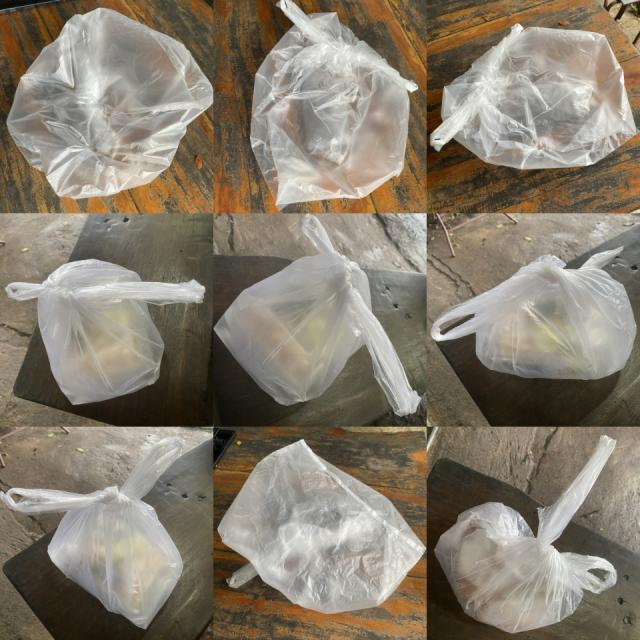Single-layer Plastic: (214, 215, 420, 416), (8, 9, 212, 198), (218, 440, 426, 614), (435, 435, 616, 632), (250, 0, 418, 209), (0, 438, 184, 628), (430, 24, 636, 169), (6, 259, 205, 404), (431, 248, 636, 379)
